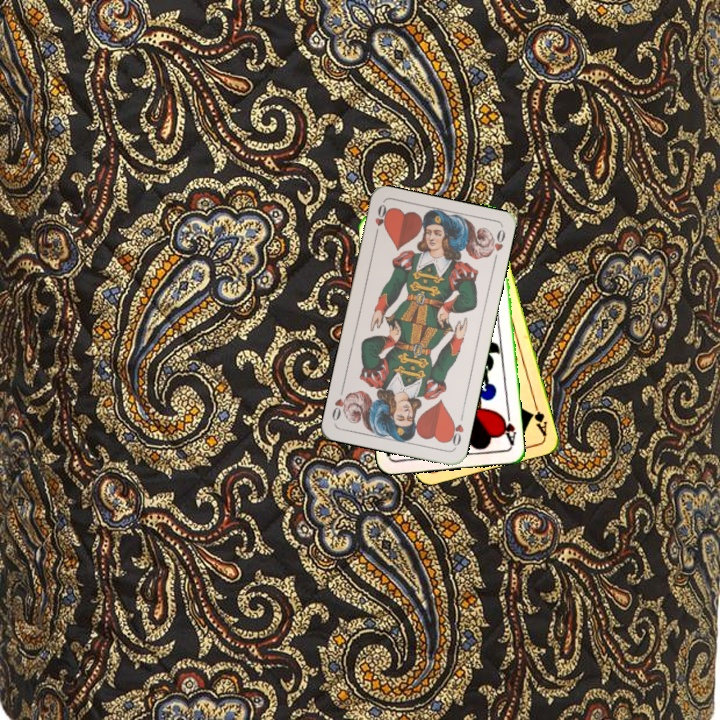GA: (527, 399, 550, 439)
HA: (497, 407, 518, 448)
HO: (445, 410, 466, 450), (371, 200, 391, 240)
